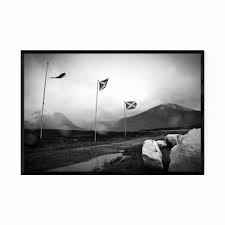Flag: (99, 77, 109, 92), (126, 101, 137, 110), (57, 72, 66, 78)
